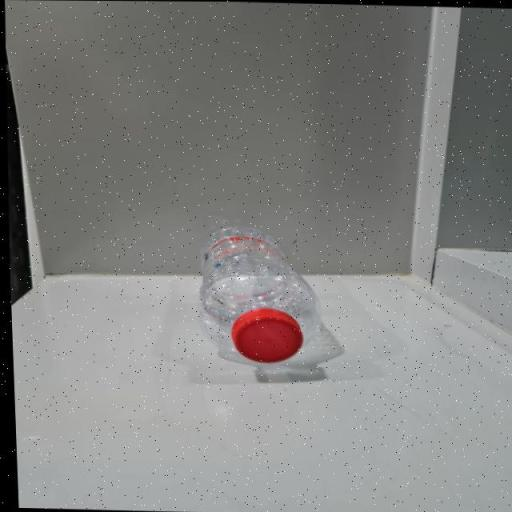plastic: (190, 224, 322, 364)
